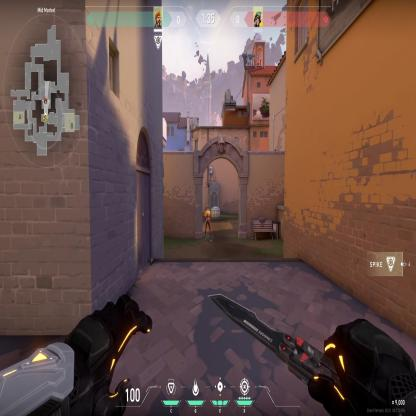enemy: (204, 203, 212, 242)
